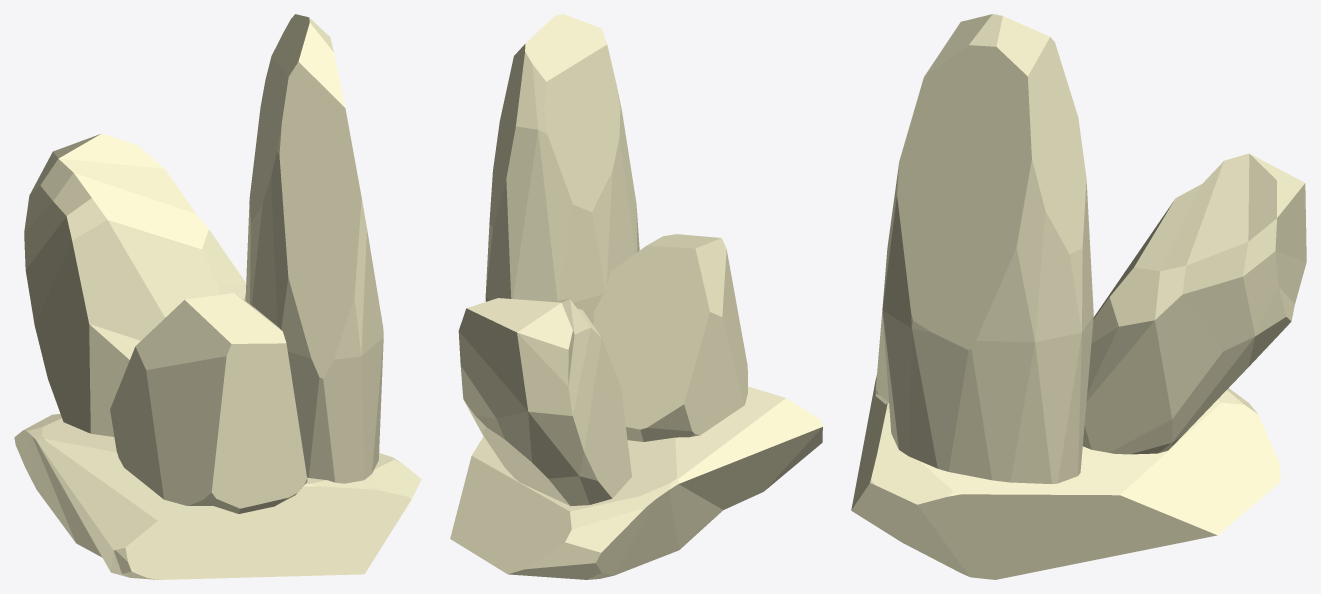
The model's file is rockwall2.fbx.
The picture shows the model from 3 angles, left to right: view 1: azimuth 30°, elevation 25°; view 2: azimuth 150°, elevation 25°; view 3: azimuth 270°, elevation 25°; orthographic projection. The views are drawn at different scales.
Parts seen in each view (by area): view 1: Icosphere.017, Icosphere.016, Icosphere.018, Icosphere.003; view 2: Icosphere.017, Icosphere.018, Icosphere.016, Icosphere.003; view 3: Icosphere.017, Icosphere.016, Icosphere.018, Icosphere.003.
Boxes of the visible parts, left/top/right/bottom form: Icosphere.017: left=245, top=14, right=383, bottom=483; Icosphere.016: left=24, top=133, right=246, bottom=436; Icosphere.018: left=14, top=413, right=421, bottom=579; Icosphere.003: left=110, top=293, right=307, bottom=513; Icosphere.017: left=485, top=14, right=639, bottom=325; Icosphere.018: left=450, top=386, right=822, bottom=579; Icosphere.016: left=458, top=298, right=631, bottom=506; Icosphere.003: left=593, top=234, right=747, bottom=441; Icosphere.017: left=882, top=14, right=1093, bottom=483; Icosphere.016: left=1083, top=153, right=1306, bottom=454; Icosphere.018: left=851, top=375, right=1280, bottom=579; Icosphere.003: left=875, top=280, right=888, bottom=404.
Bounding box in the file's own units: 882 × 1424 × 1082.
